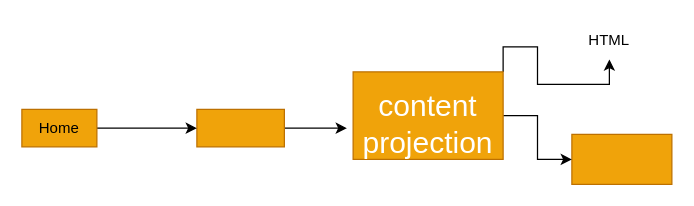
Some shapes in this 694 by 206 pixel diagram are drawn without their labels. The shapes that lost their labels are listed below. From the top down, each one's centre as x and y in pixels, then its label:
At (x=240, y=127): "Tablist".
At (x=621, y=158): "Tab".
